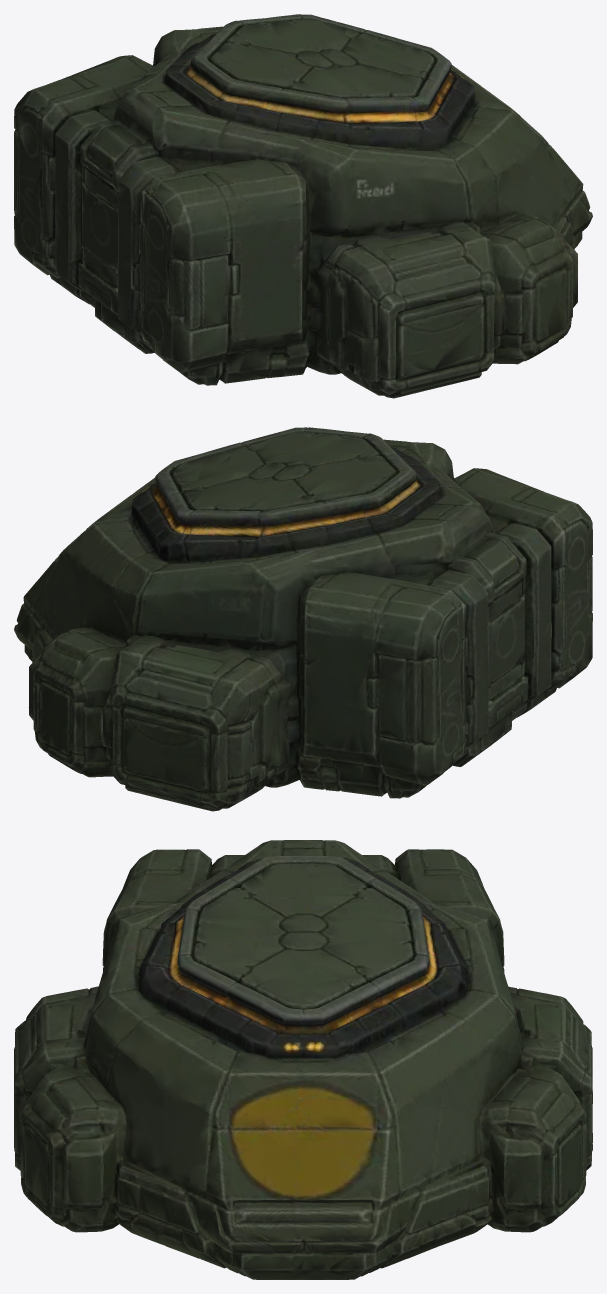
File: arc-mortar-lean.glb
3 views of the same model, one above another, from view 1: azimuth 30°, elevation 25°; view 2: azimuth 150°, elevation 25°; view 3: azimuth 270°, elevation 25° (orthographic). The views are drawn at different scales.
Visible parts, largest first — view 1: chassis; view 2: chassis; view 3: chassis.
Part boxes in pixels (x1=…): chassis: x1=14, y1=14, x2=592, y2=398; chassis: x1=14, y1=427, x2=592, y2=811; chassis: x1=14, y1=840, x2=592, y2=1279.
Size of the model in its own units: 0.9573 by 0.495 by 0.9899.
1 material, 1 textured.
